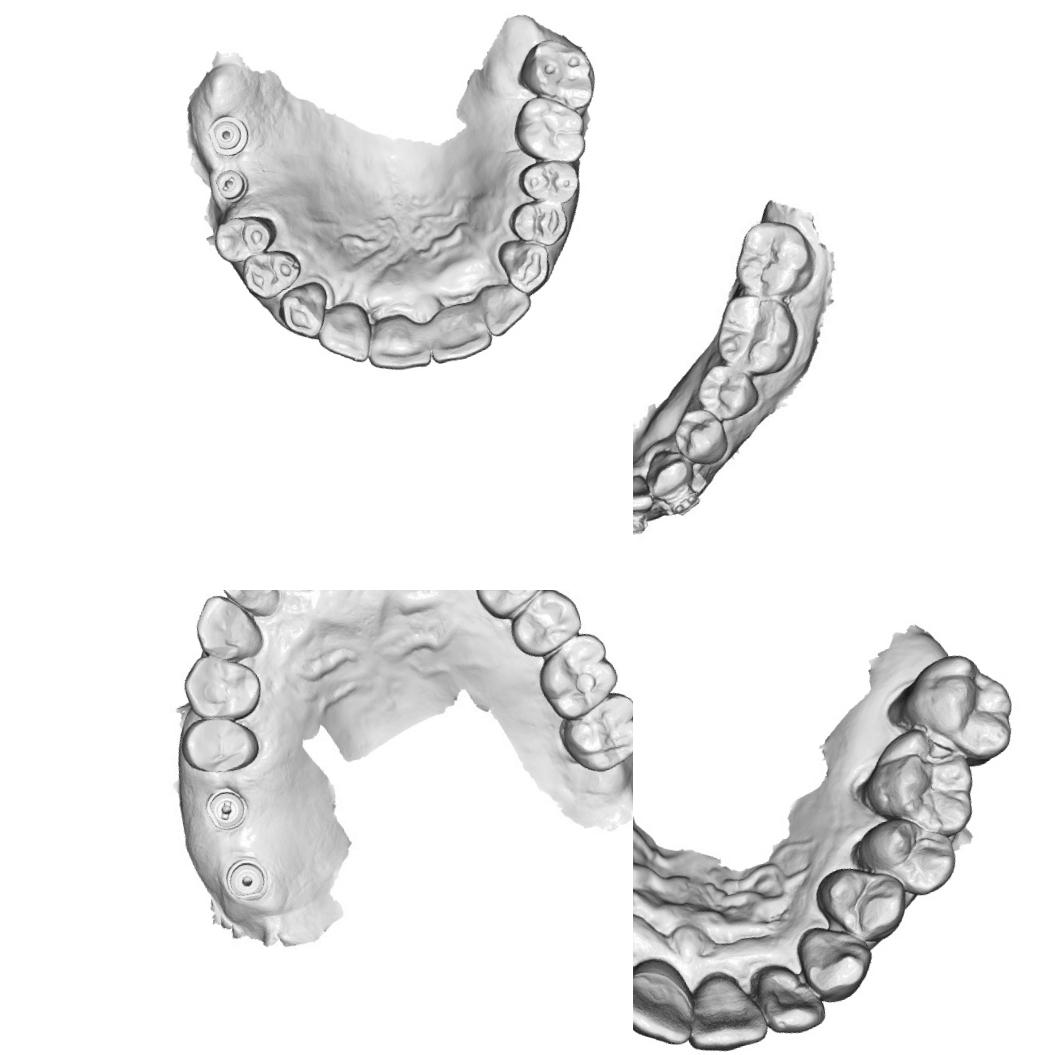canine: (794, 916, 876, 1008), (186, 590, 268, 669), (493, 230, 556, 300), (273, 276, 336, 344), (638, 444, 696, 502)
implant: (215, 842, 275, 907), (203, 111, 251, 159)
implant_minus: (201, 778, 265, 842), (210, 164, 251, 205)
incisor: (683, 962, 772, 1055), (633, 957, 703, 1055), (753, 954, 828, 1039), (359, 308, 436, 379), (421, 296, 495, 366), (310, 296, 378, 370), (473, 275, 538, 340), (218, 590, 278, 616), (633, 468, 657, 517)
molar: (854, 718, 988, 847), (896, 642, 1023, 776), (706, 283, 806, 384), (530, 626, 633, 724), (723, 210, 823, 305), (507, 30, 600, 121), (505, 84, 592, 174), (549, 686, 633, 779)
premolar: (850, 808, 962, 904), (812, 854, 914, 949), (168, 648, 271, 725), (176, 706, 268, 783), (500, 590, 589, 663), (690, 356, 763, 427), (666, 402, 732, 472), (236, 244, 308, 305), (503, 193, 573, 254), (513, 152, 584, 212), (209, 209, 280, 268), (466, 590, 551, 619)
